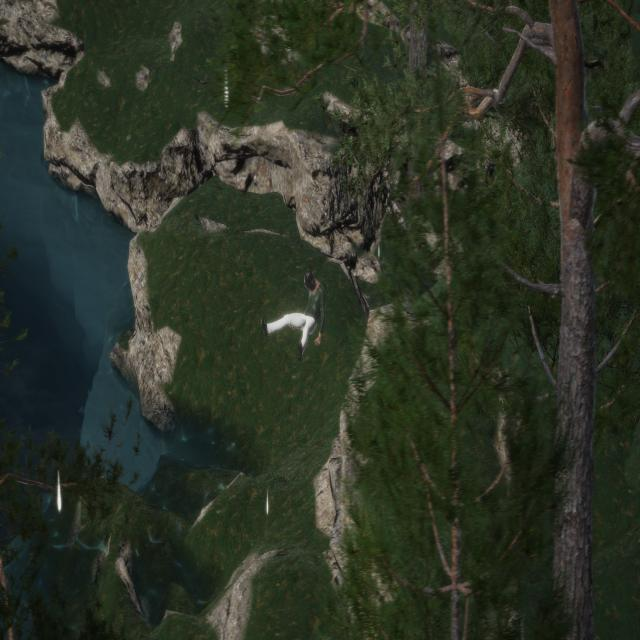Human: (262, 268, 329, 372)
